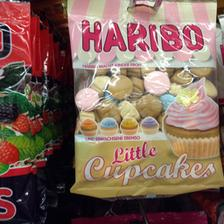Suessigkeit: (69, 0, 223, 194)
